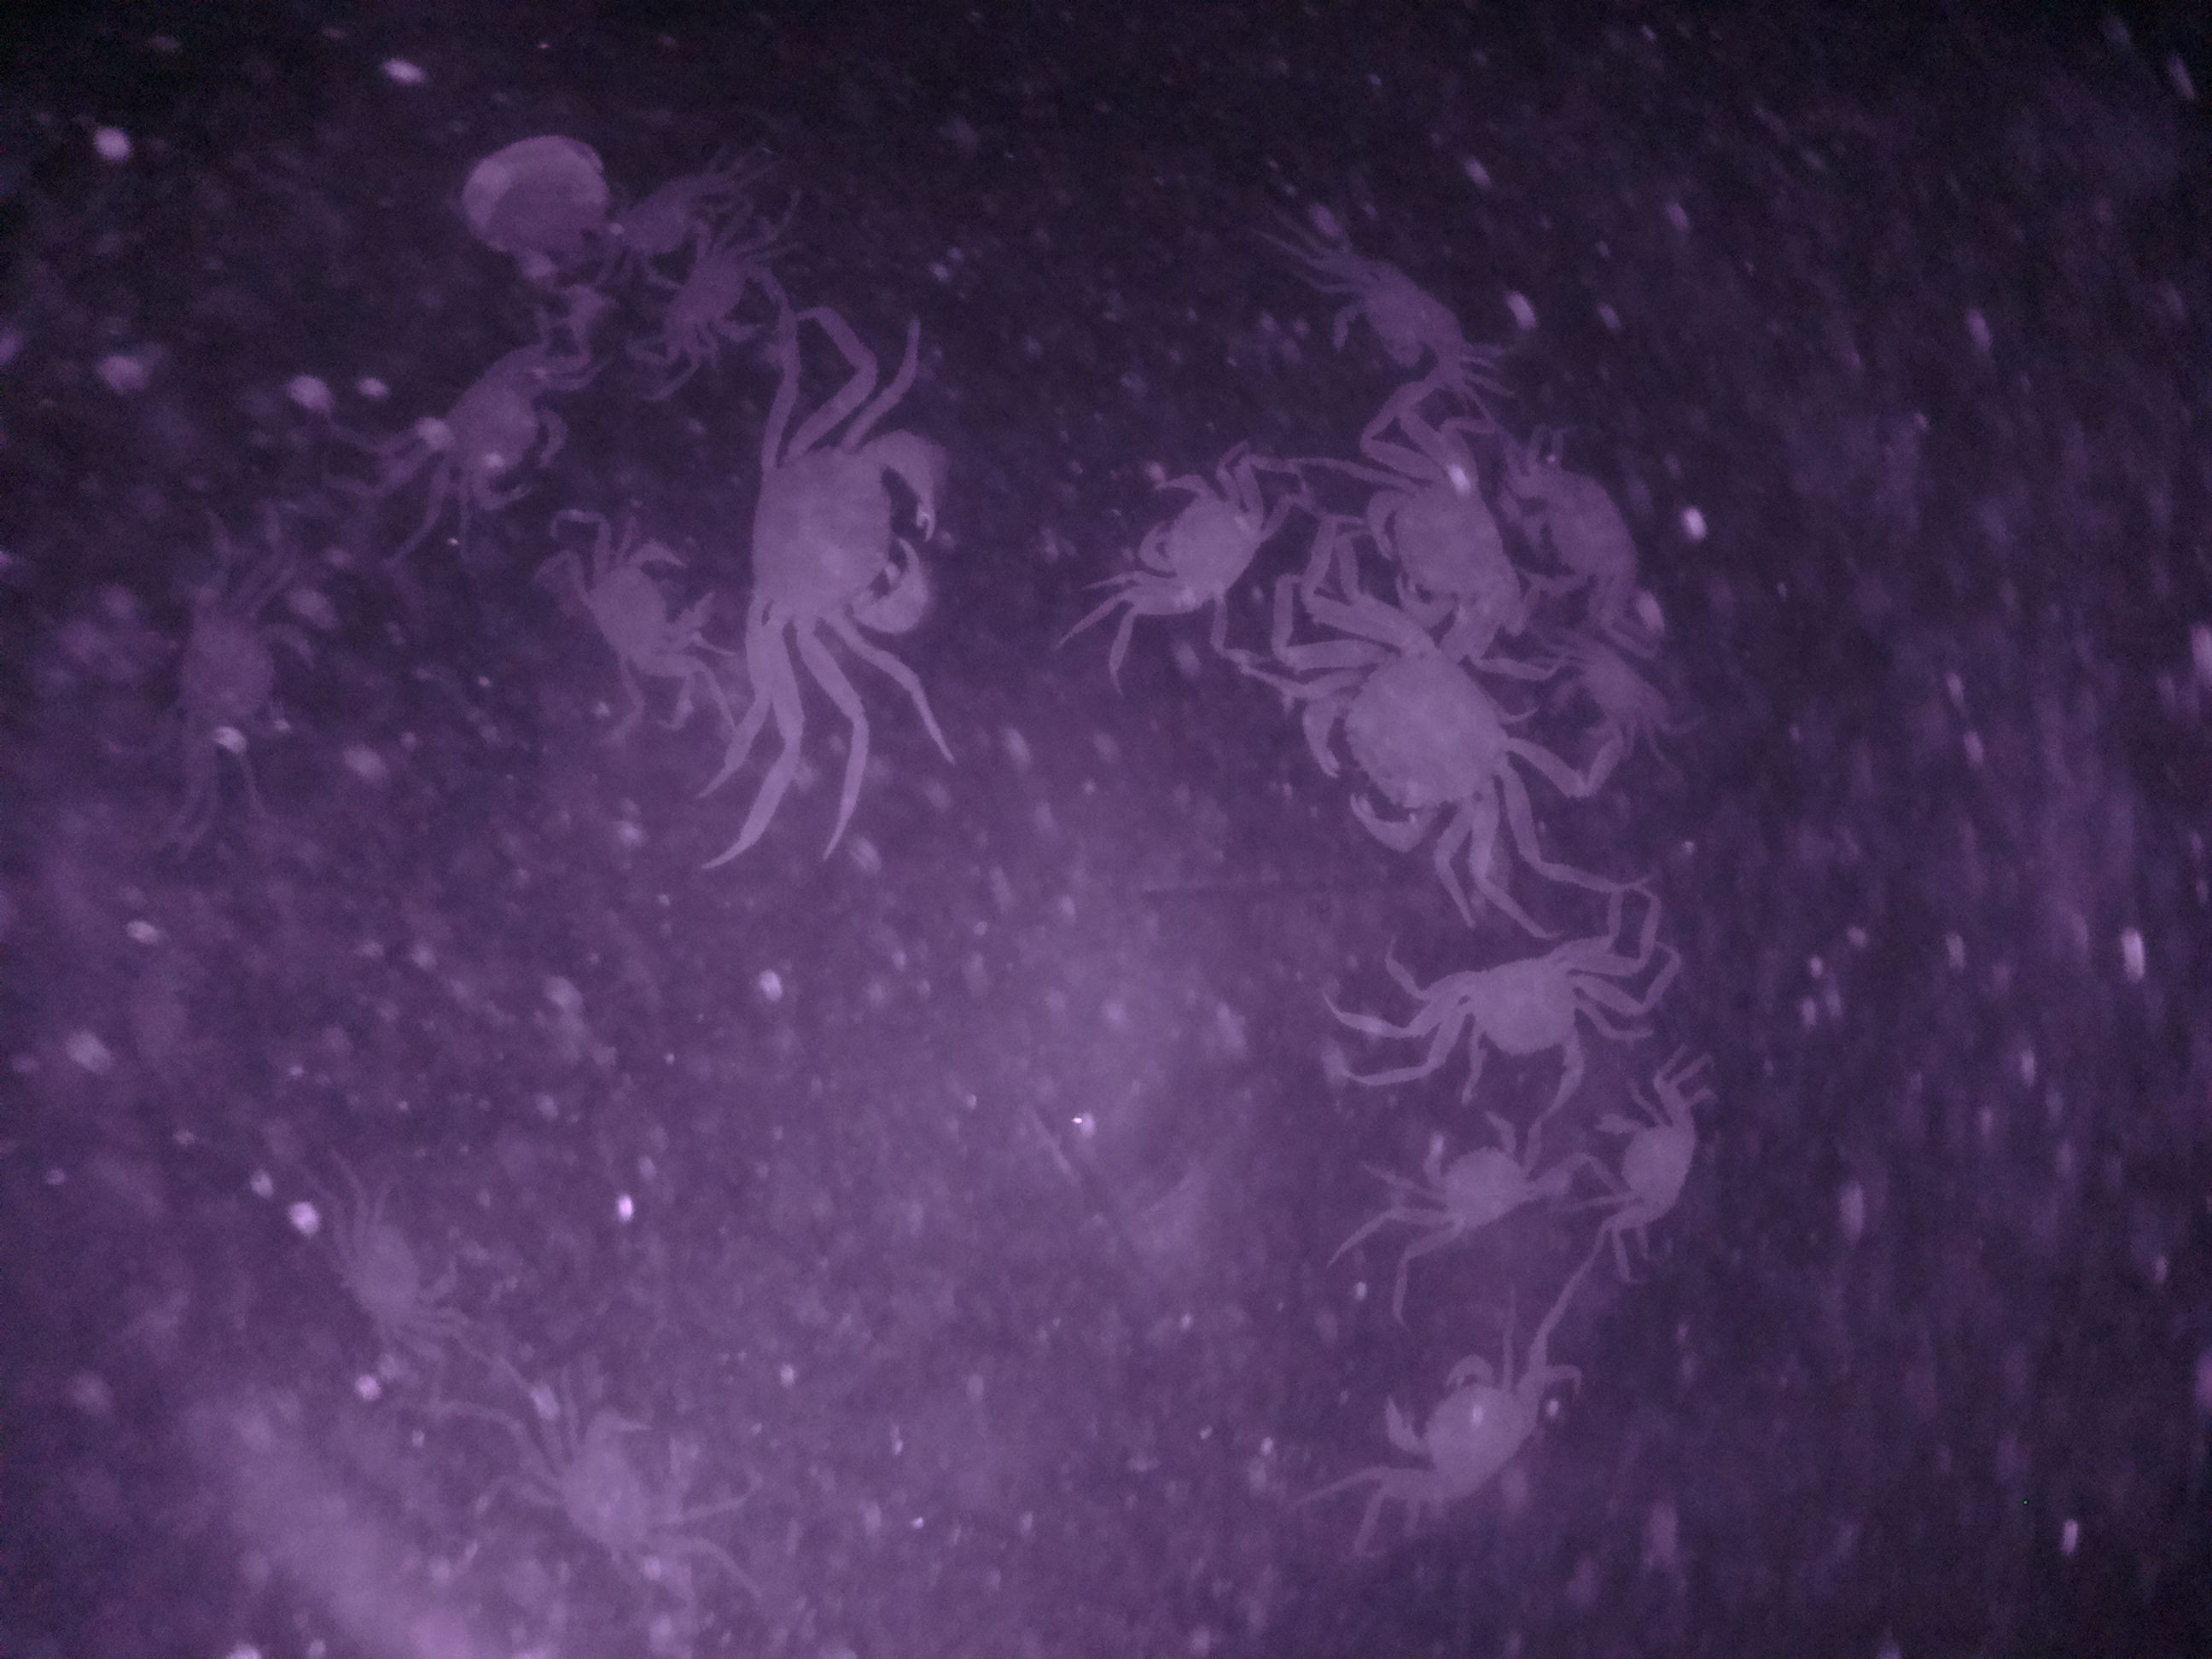Crab: (735, 387, 958, 685), (1345, 430, 1533, 648), (1366, 1344, 1576, 1520), (1498, 423, 1681, 626), (1372, 932, 1590, 1100), (1113, 441, 1282, 643), (564, 511, 730, 702), (421, 345, 561, 525), (1376, 1110, 1521, 1263), (665, 206, 794, 371), (1583, 1086, 1705, 1244), (1536, 638, 1670, 751)
